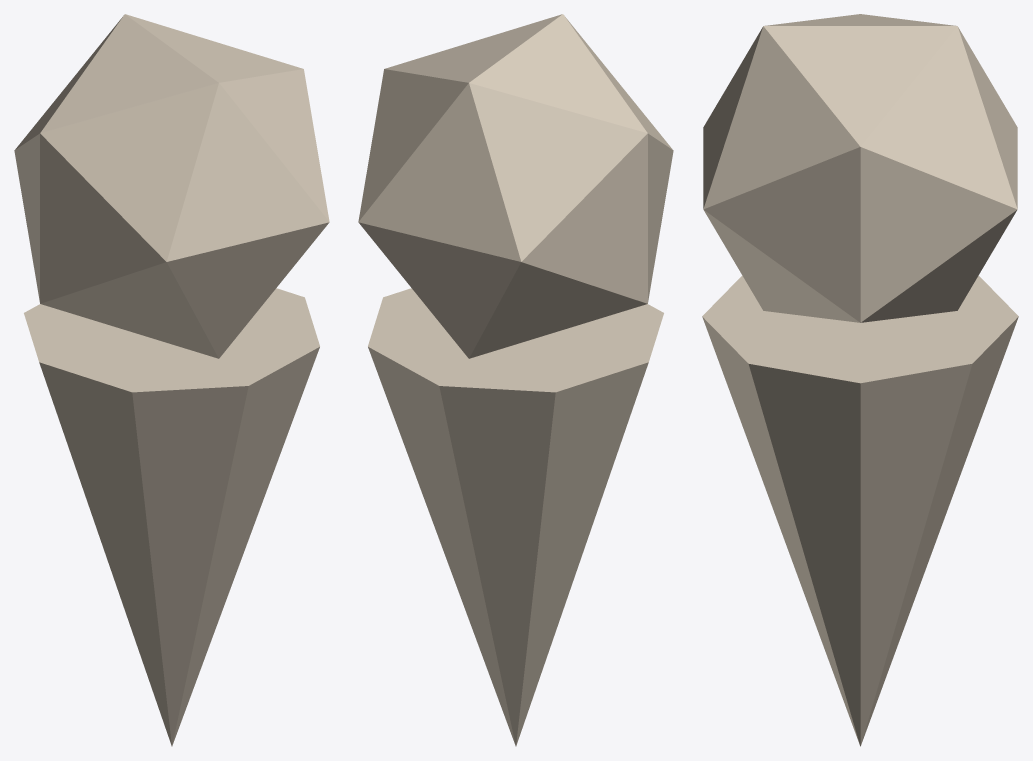
3 renders of one model, left to right at view 1: azimuth 30°, elevation 25°; view 2: azimuth 150°, elevation 25°; view 3: azimuth 270°, elevation 25°, orthographic. The views are drawn at different scales.
Parts seen in each view (by area): view 1: part1, part0; view 2: part1, part0; view 3: part1, part0.
Part boxes in pixels (x1,y1,x2,y2): part1: [14, 14, 329, 358]; part0: [24, 288, 319, 746]; part1: [358, 14, 673, 358]; part0: [368, 288, 663, 746]; part1: [703, 14, 1017, 322]; part0: [702, 275, 1018, 746].
Bounding box in the file's own units: 1.2 × 3.01 × 1.2.
